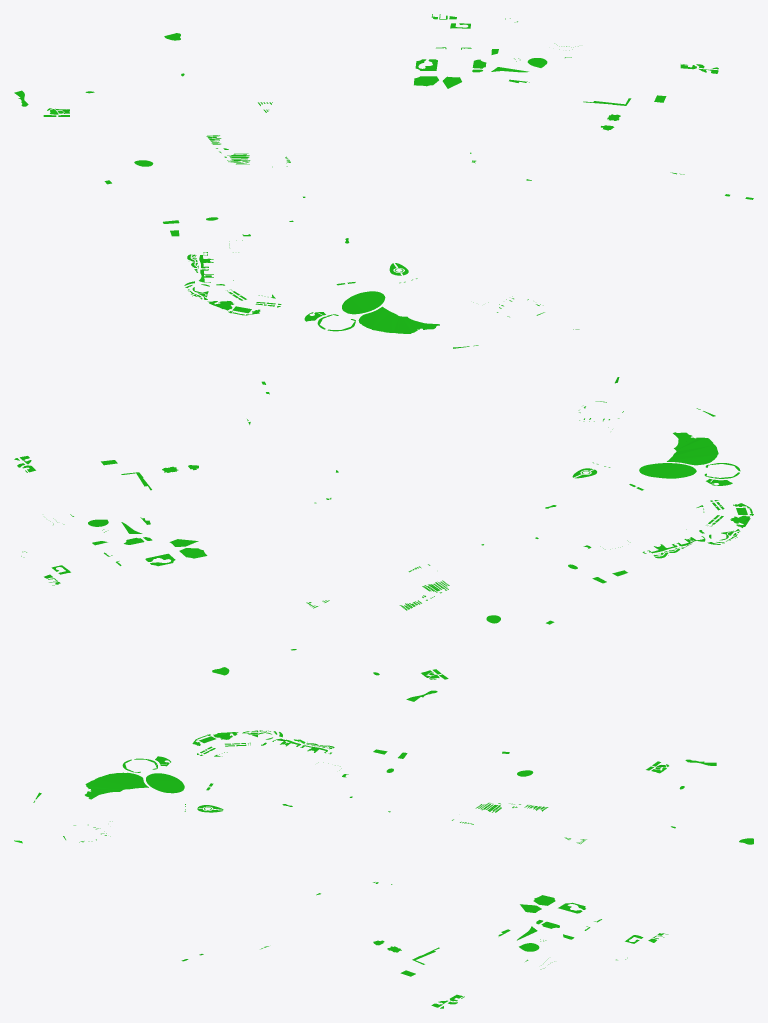
File: ny_vegetation.glb
The picture shows the model from 3 angles, top to bottom: view 1: azimuth 30°, elevation 25°; view 2: azimuth 150°, elevation 25°; view 3: azimuth 270°, elevation 25°; orthographic projection. The views are drawn at different scales.
Visible parts, largest first — view 1: map_10.osm_vegetation; view 2: map_10.osm_vegetation; view 3: map_10.osm_vegetation.
Part boxes in pixels (box(x1,y1,x2,y2)): map_10.osm_vegetation: box(14, 14, 753, 348); map_10.osm_vegetation: box(14, 377, 753, 701); map_10.osm_vegetation: box(14, 730, 753, 1008).
Bounding box in the file's own units: 1647 × 12.62 × 1846.
